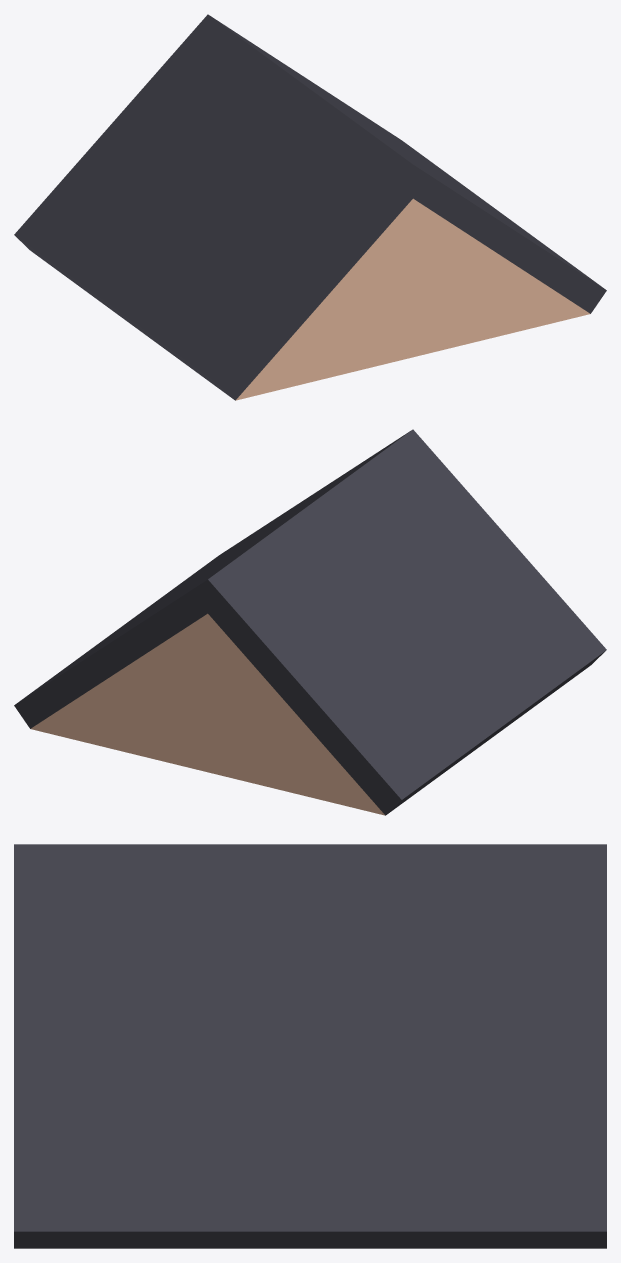
The model's file is RoofGable.fbx.
3 renders of one model, top to bottom at view 1: azimuth 30°, elevation 25°; view 2: azimuth 150°, elevation 25°; view 3: azimuth 270°, elevation 25°, orthographic. The views are drawn at different scales.
Visible parts, largest first — view 1: RoofGable; view 2: RoofGable; view 3: RoofGable.
Boxes of the visible parts, x1=… form: RoofGable: x1=14, y1=14, x2=606, y2=400; RoofGable: x1=14, y1=429, x2=606, y2=815; RoofGable: x1=14, y1=844, x2=606, y2=1248.
Bounding box in the file's own units: 327 × 156 × 300.
